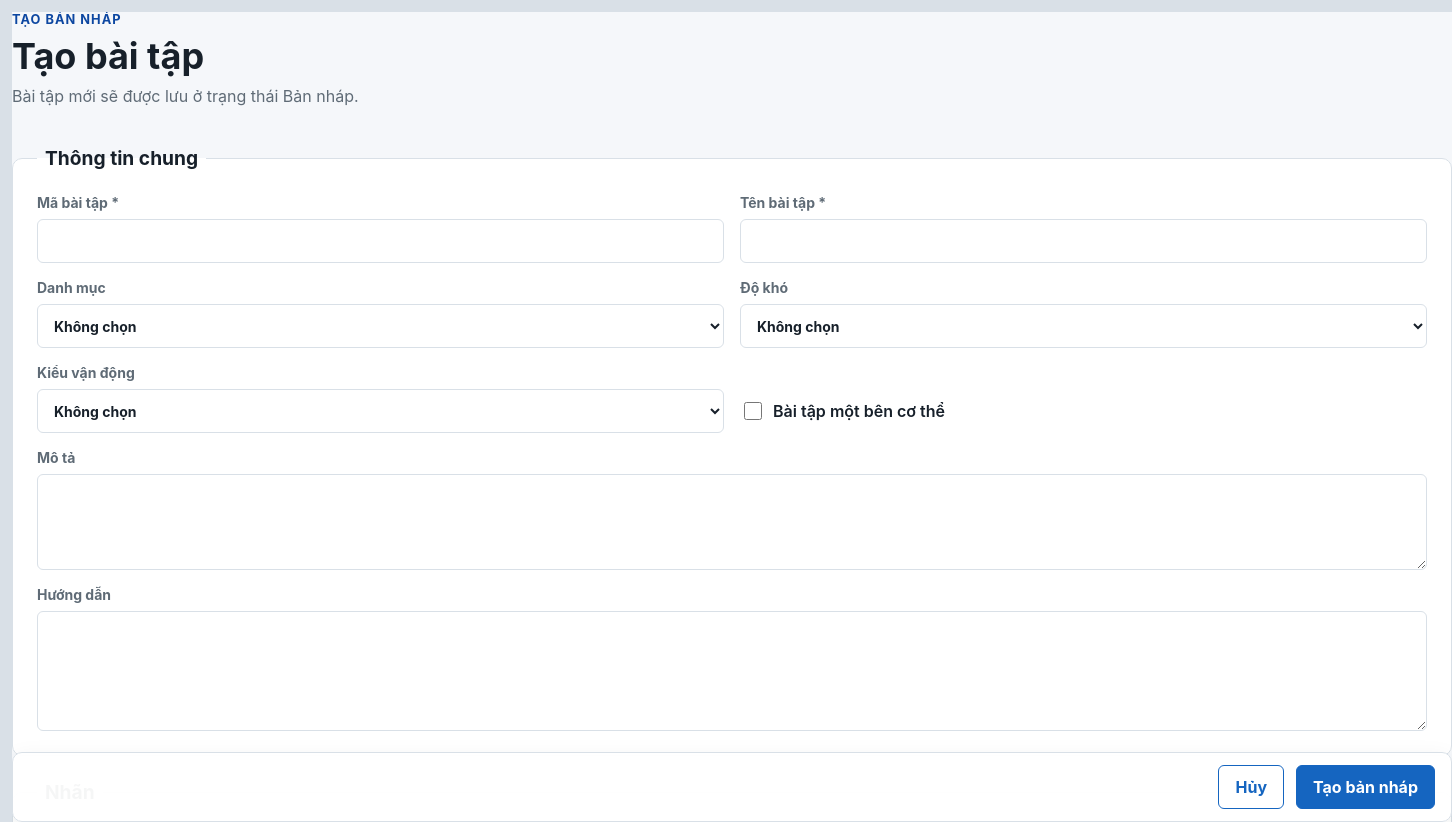
exercise draft create and edit flows › keeps input and maps a code conflict without showing the raw backend message
Type "DUPLICATE" into the field labelled "Mã bài tập *" at [380, 241], box [37,219,724,263]
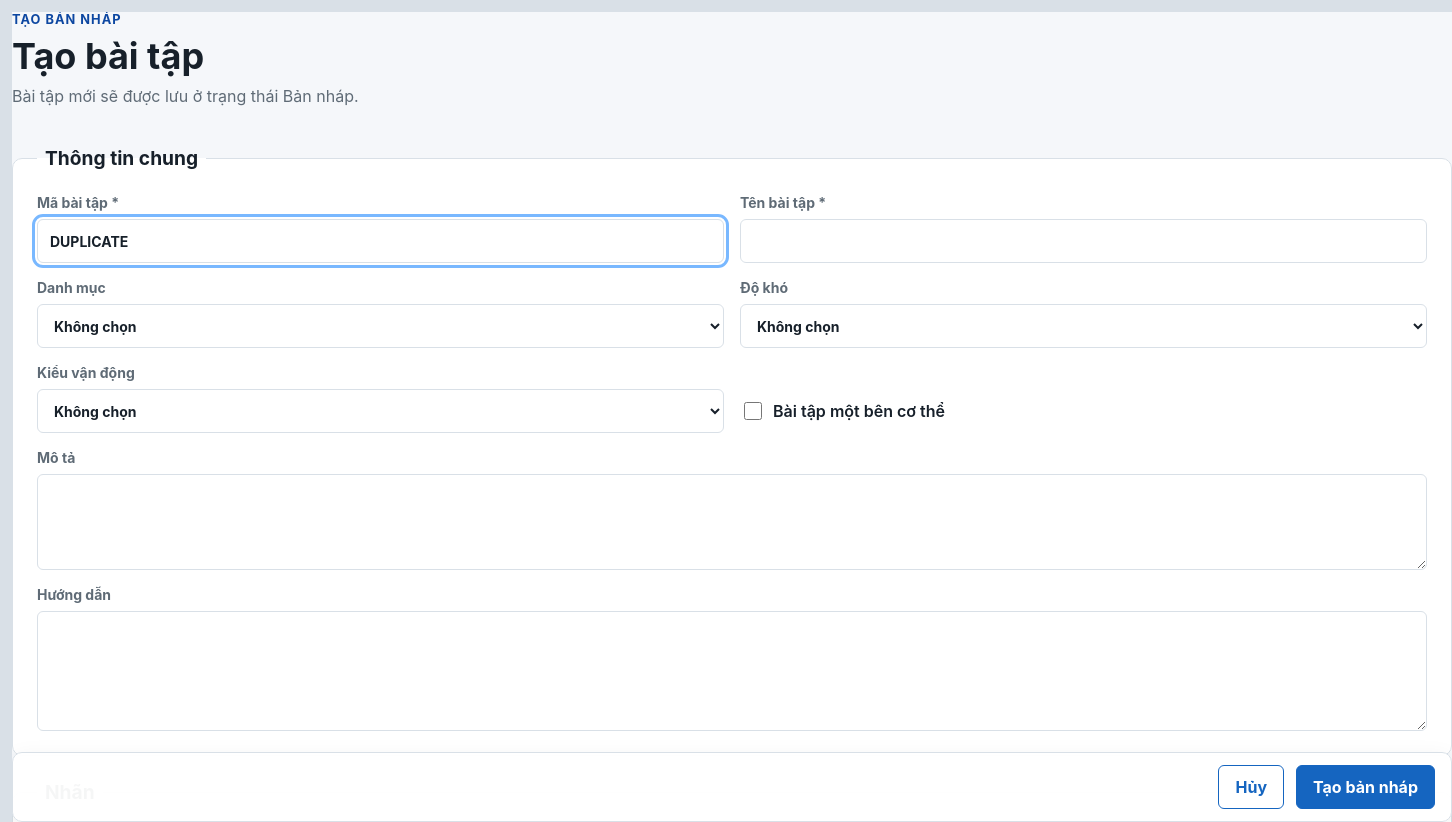
Type "Bench Press" into the field labelled "Tên bài tập *" at [1084, 241], box [740,219,1427,263]
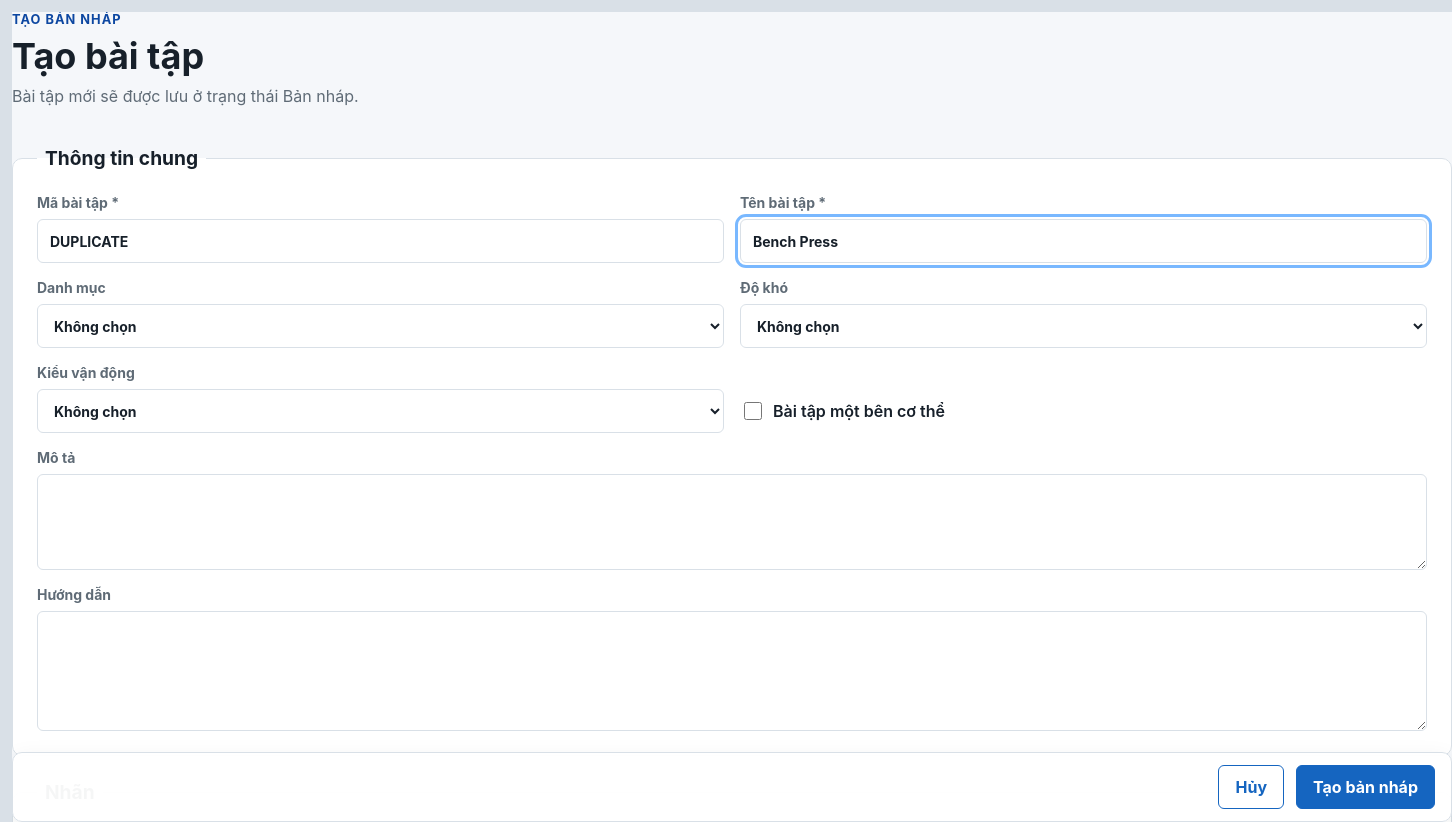
Click the button "Tạo bản nháp" at [1366, 787], box [1296,765,1435,809]
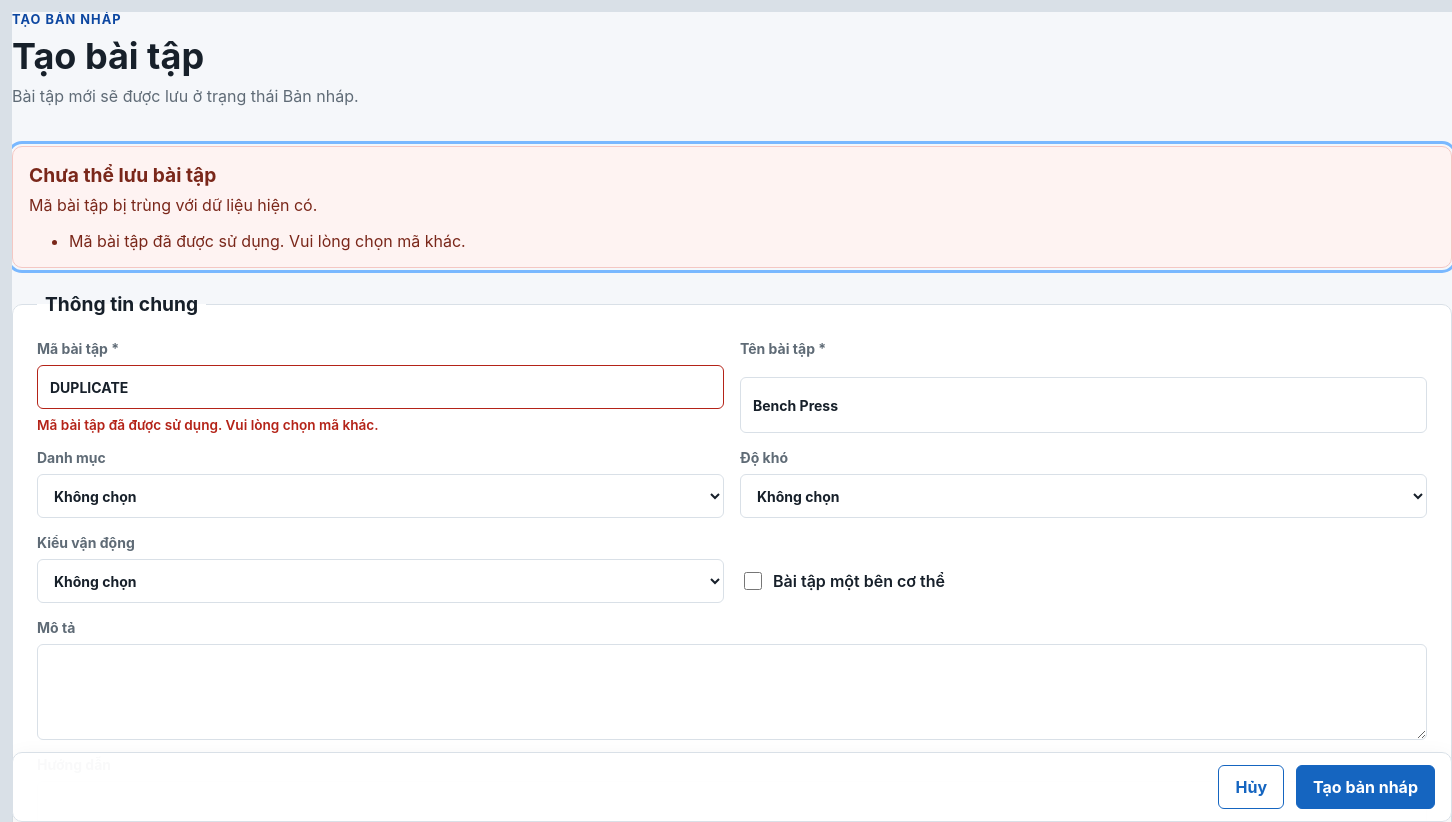
Expected: the number of list items "Mã bài tập đã được sử dụng. Vui lòng chọn mã khác." is 2, [69,231,466,251]; [37,417,379,433]
